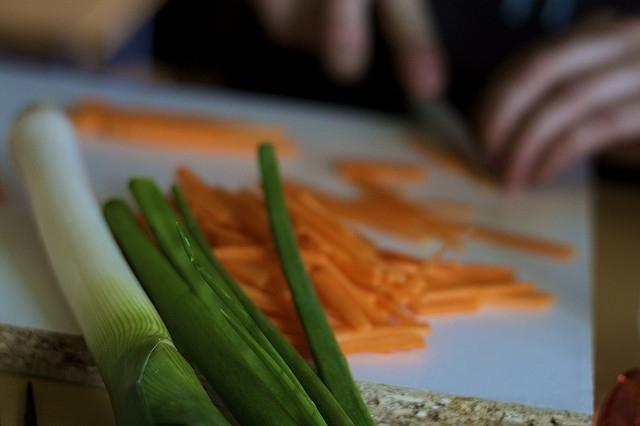carrot: (68, 99, 296, 156), (254, 180, 381, 271), (281, 178, 430, 246), (406, 128, 501, 196), (439, 220, 576, 263), (175, 165, 247, 231), (308, 265, 372, 333), (304, 249, 376, 309), (228, 272, 300, 322), (210, 186, 273, 243), (188, 199, 256, 244), (355, 201, 436, 237), (332, 158, 427, 184), (222, 257, 280, 297), (330, 321, 431, 343), (338, 334, 424, 356), (435, 262, 516, 284), (135, 211, 165, 254), (419, 198, 477, 220), (406, 298, 480, 315), (474, 294, 555, 309), (236, 193, 269, 224), (303, 228, 337, 256), (375, 247, 427, 265), (210, 245, 263, 260), (340, 268, 380, 286), (268, 317, 304, 336), (358, 306, 390, 324), (404, 277, 427, 302), (384, 285, 410, 304), (382, 267, 406, 285), (282, 334, 307, 348)
green onion: (9, 97, 233, 426), (128, 177, 309, 425), (103, 199, 298, 426), (174, 185, 356, 426), (260, 143, 374, 425), (176, 221, 327, 425)
